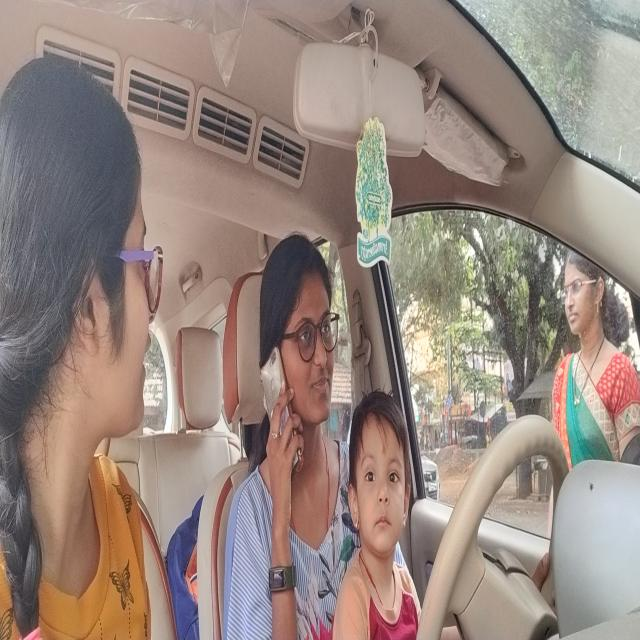child: (344, 384, 413, 558)
mobile: (258, 338, 305, 480)
person: (0, 56, 170, 527), (252, 235, 341, 458)
